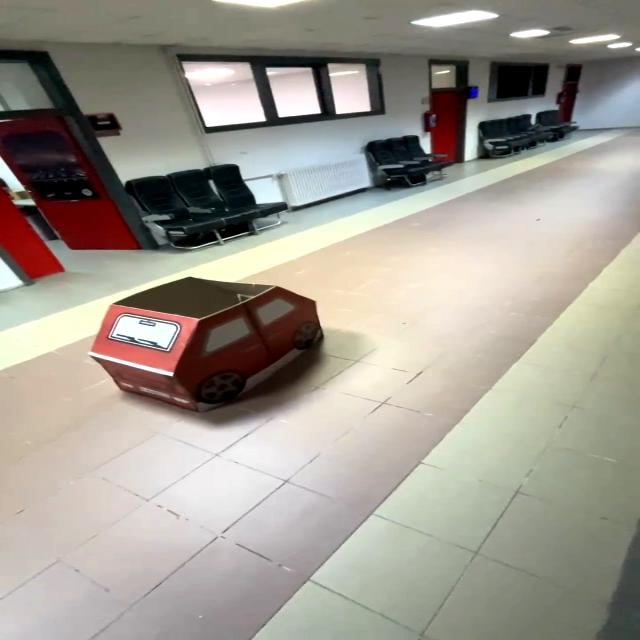red_car: (48, 270, 377, 425)
